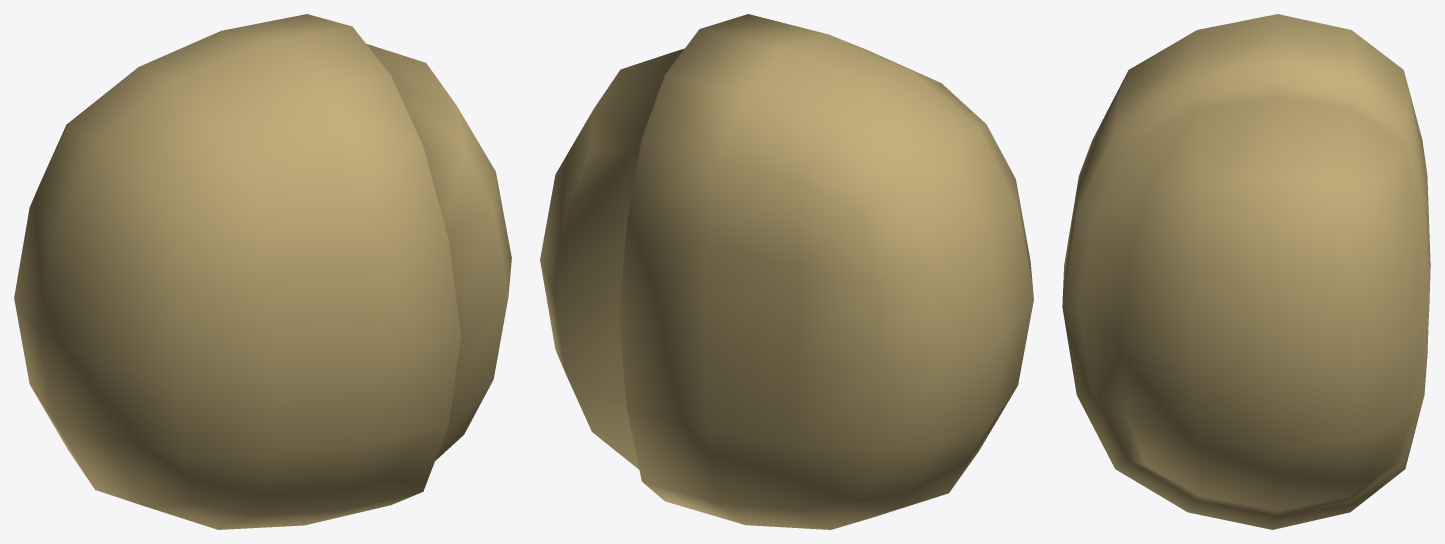
Rendered from burgerTray.fbx.
3 views of the same model, side by side, from view 1: azimuth 30°, elevation 25°; view 2: azimuth 150°, elevation 25°; view 3: azimuth 270°, elevation 25° (orthographic). The views are drawn at different scales.
Visible parts, largest first — view 1: Cube.155; view 2: Cube.155; view 3: Cube.155.
Part boxes in pixels (x1,y1,x2,y2): Cube.155: (14, 14, 511, 529); Cube.155: (540, 14, 1033, 529); Cube.155: (1062, 14, 1430, 529).
Bounding box in the file's own units: 37.54 × 37.54 × 27.82.
